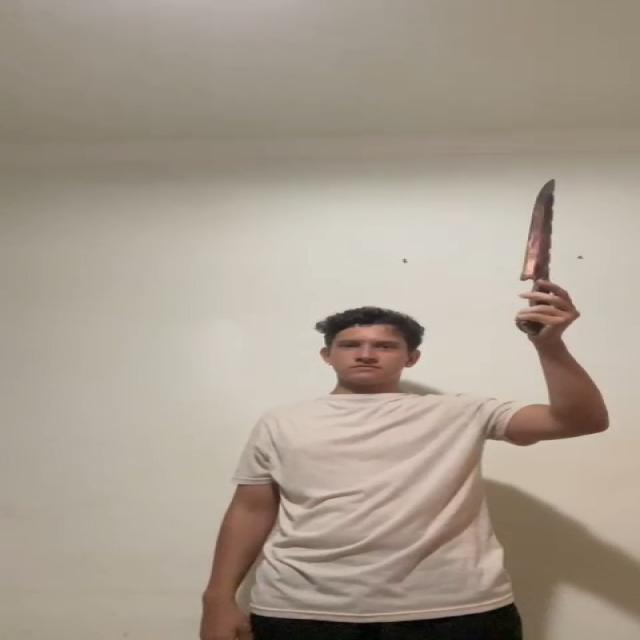knife: (518, 180, 558, 282)
